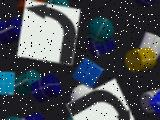Left: (17, 0, 81, 65)
Right: (66, 78, 135, 120)
